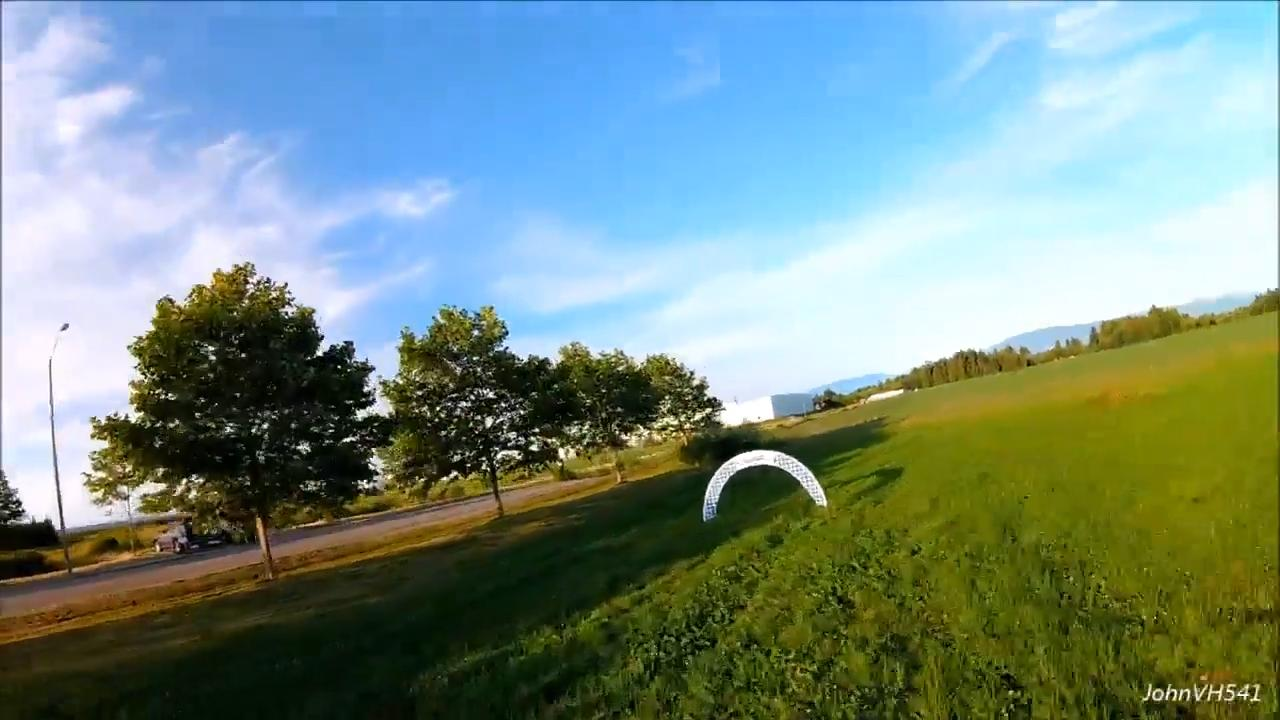gate: (694, 450, 832, 522)
